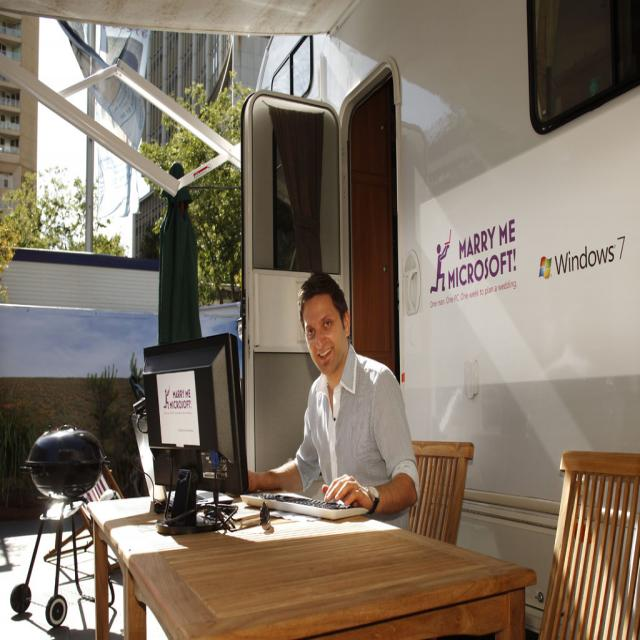chair: (408, 439, 474, 545)
desk: (87, 490, 537, 640)
person: (245, 272, 420, 526)
tv: (143, 333, 247, 495)
